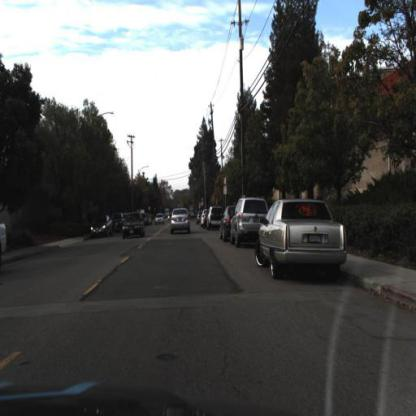car: (254, 194, 347, 289), (254, 193, 349, 280), (229, 191, 269, 246), (230, 198, 263, 249), (88, 213, 114, 244), (168, 205, 194, 235), (121, 210, 146, 240), (89, 213, 116, 240), (122, 213, 147, 241), (204, 204, 224, 232), (171, 208, 190, 235), (222, 205, 235, 241), (153, 211, 167, 229)
